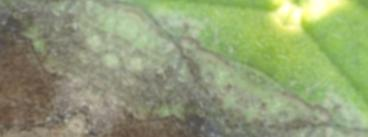Tomato leaf late blight: (37, 0, 331, 137)
